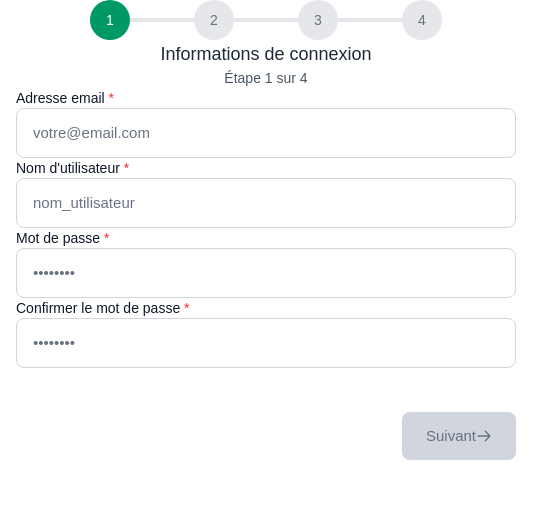
Test: MultiStepRegisterForm.vue › Navigation entre étapes › devrait afficher une erreur si le mot de passe est trop court
Type "test@example.com" into the field with id "email". click: (266, 133)
box: [16,108,516,158]
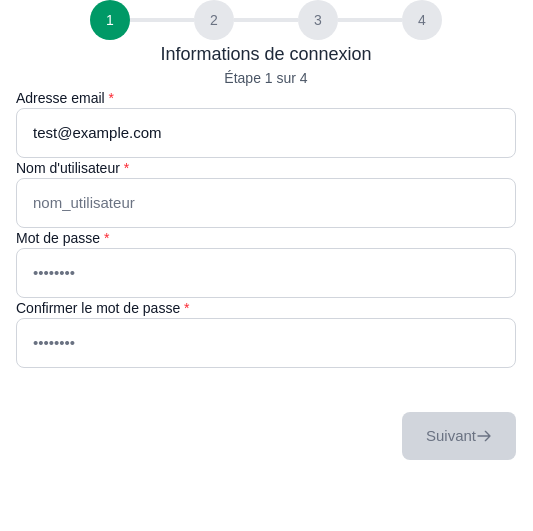
Type "testuser" into the field with id "username". click: (266, 203)
box: [16,178,516,228]
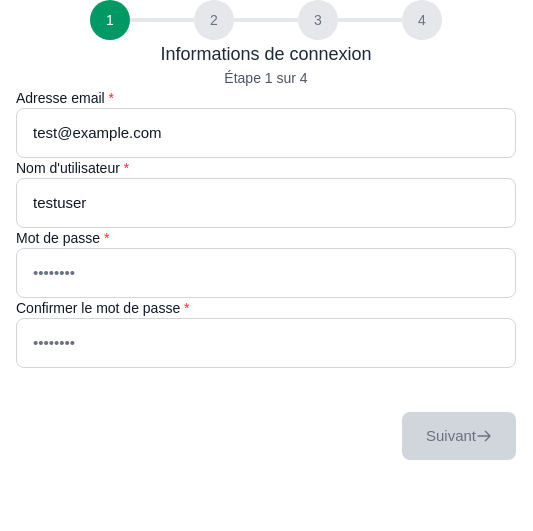
Type "123" into the password field labelled "Mot de passe *". click: (266, 273)
box: [16,248,516,298]
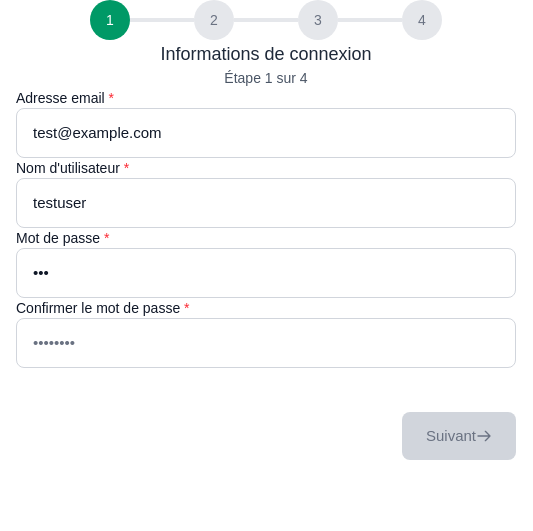
Type "123" into the password field with id "confirmPassword". click: (266, 343)
box: [16,318,516,368]
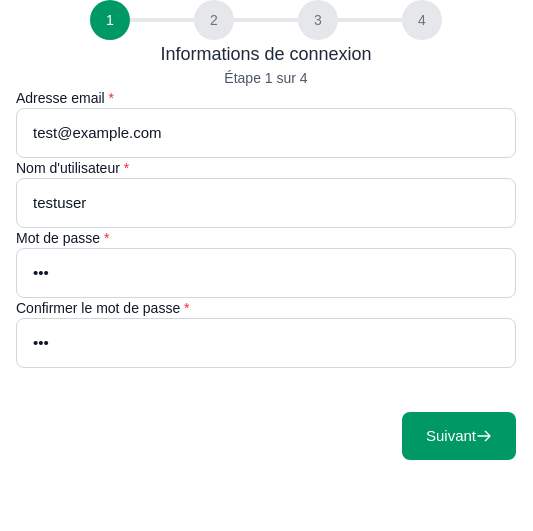
Click the button "Suivant". click: click(459, 436)
box: [402,412,516,460]
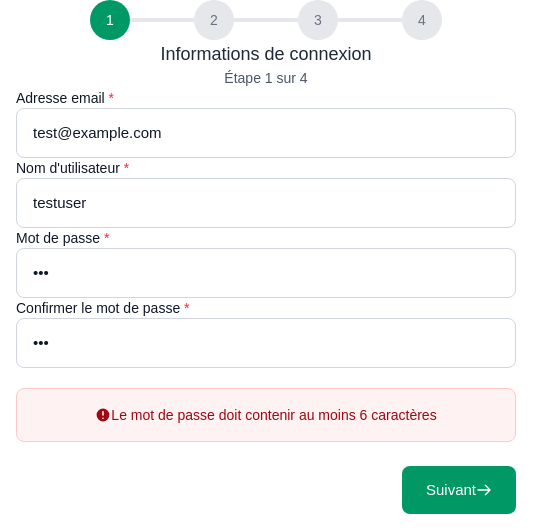
Expected: the element showing "Le mot de passe doit contenir au moins 6 caractères" is shown, [95,407,437,423]
